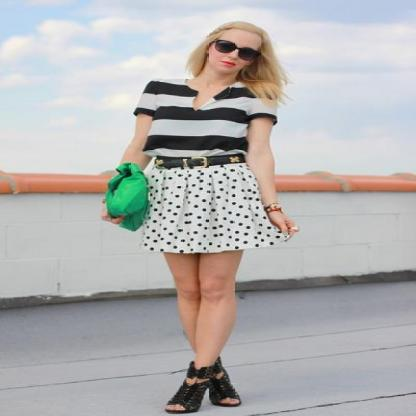bag: (105, 163, 153, 231)
shirt: (134, 80, 278, 168)
shoe: (165, 358, 236, 413)
skirt: (130, 162, 286, 252)
sunglass: (204, 38, 238, 58)
